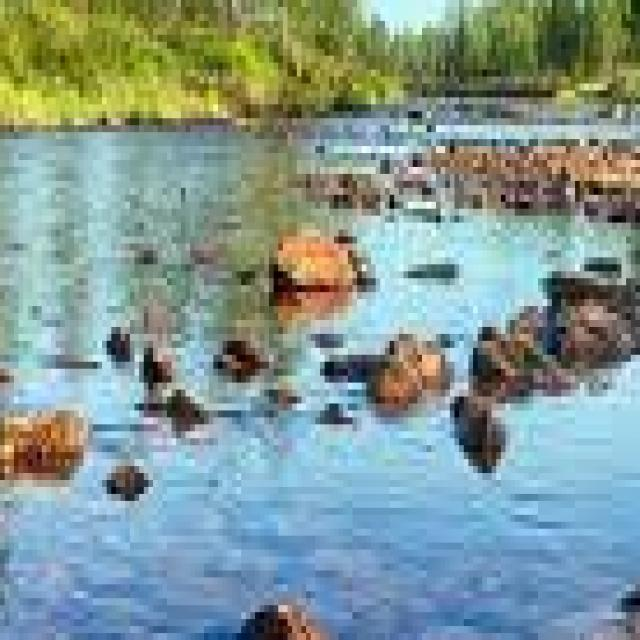-: (69, 512, 479, 598), (0, 174, 186, 223)
